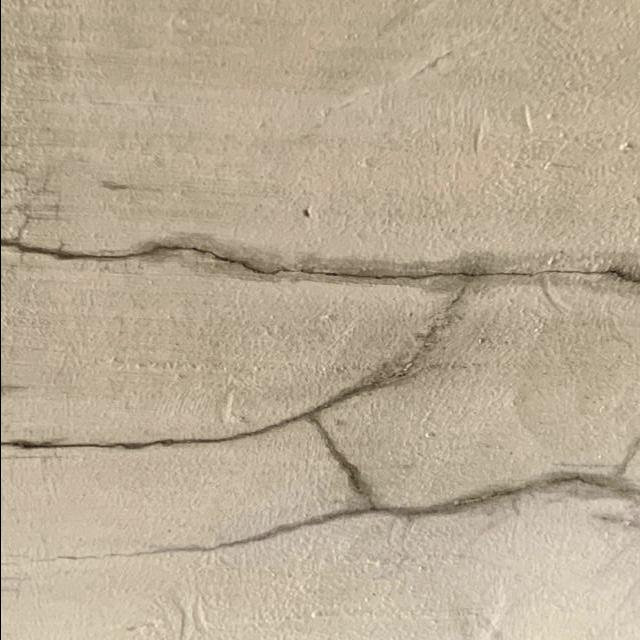SurfaceCrack: (1, 316, 640, 595)
